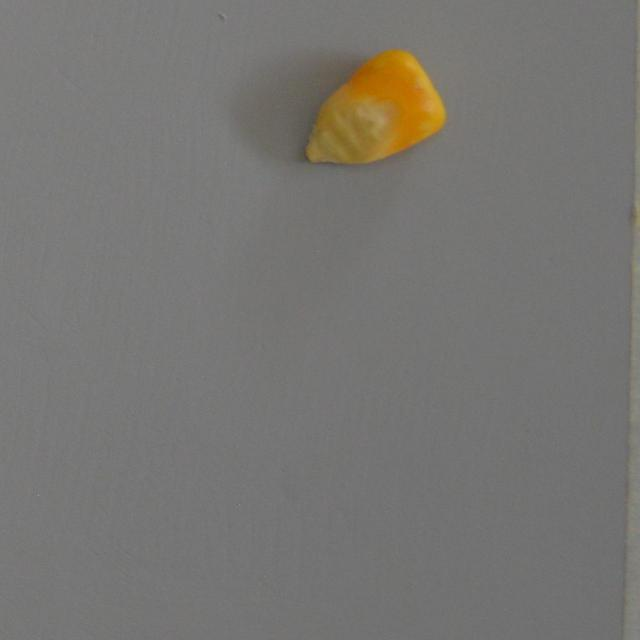entero: (300, 50, 447, 171)
